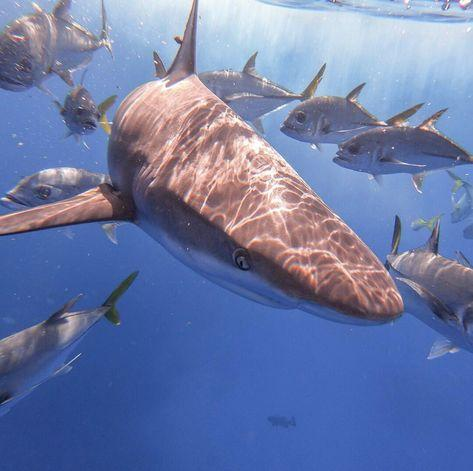fish: (0, 0, 404, 326), (0, 269, 139, 425), (385, 215, 473, 359), (333, 108, 473, 192), (197, 50, 328, 134), (0, 0, 113, 91), (283, 82, 423, 146), (53, 69, 118, 146), (1, 169, 112, 211), (267, 414, 297, 431)
